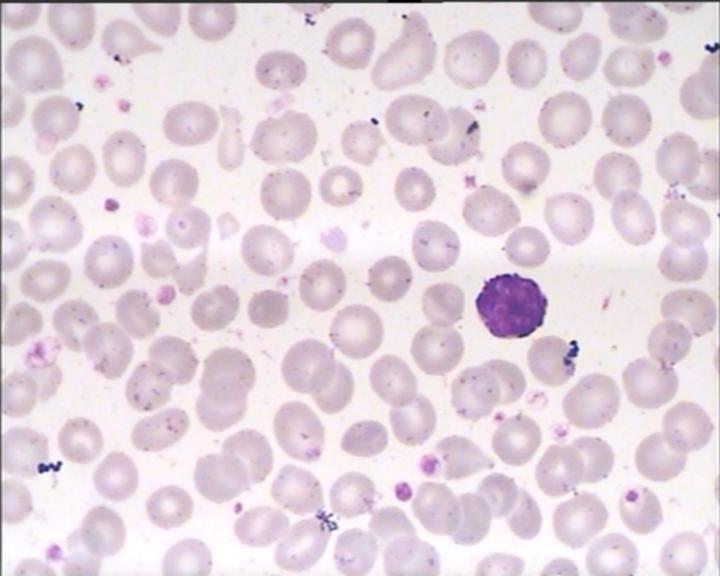baso: (471, 270, 551, 343)
